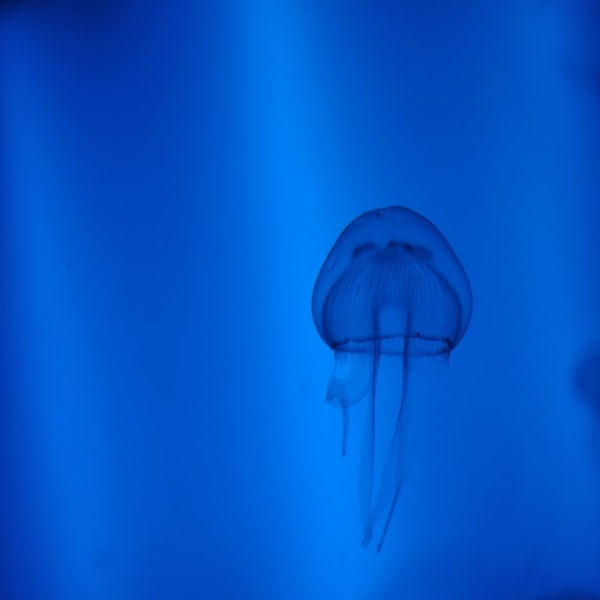Jellyfish: (306, 199, 478, 551)
